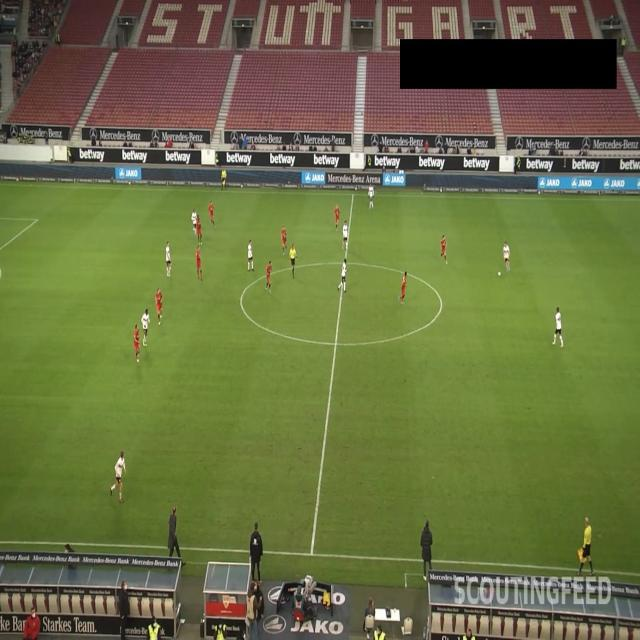ball: (498, 270, 502, 277)
